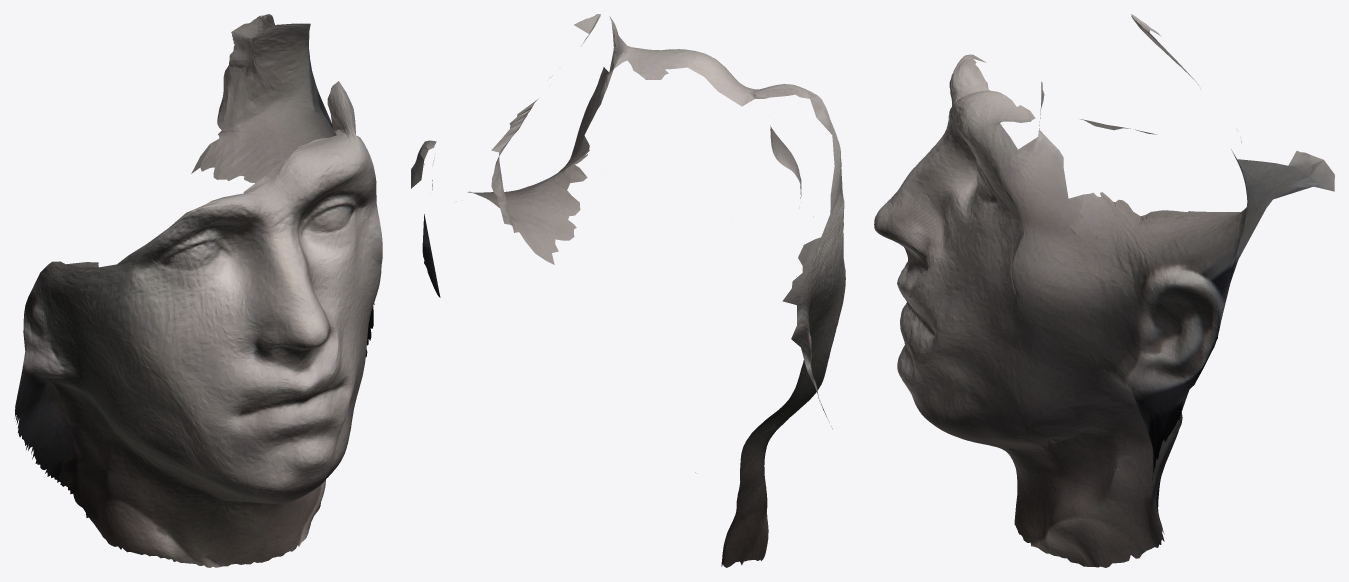
The model's file is glbhiresnodracogltf.gltf.
3 renders of one model, left to right at view 1: azimuth 30°, elevation 25°; view 2: azimuth 150°, elevation 25°; view 3: azimuth 270°, elevation 25°, orthographic. The views are drawn at different scales.
Parts seen in each view (by area): view 1: model; view 2: model; view 3: model.
Part boxes in pixels (bbox=[...]): model: bbox=[14, 14, 382, 567]; model: bbox=[411, 14, 845, 567]; model: bbox=[874, 14, 1334, 567].
Bounding box in the file's own units: 184 × 236 × 183.
Materials: 1 (1 with a texture image).
